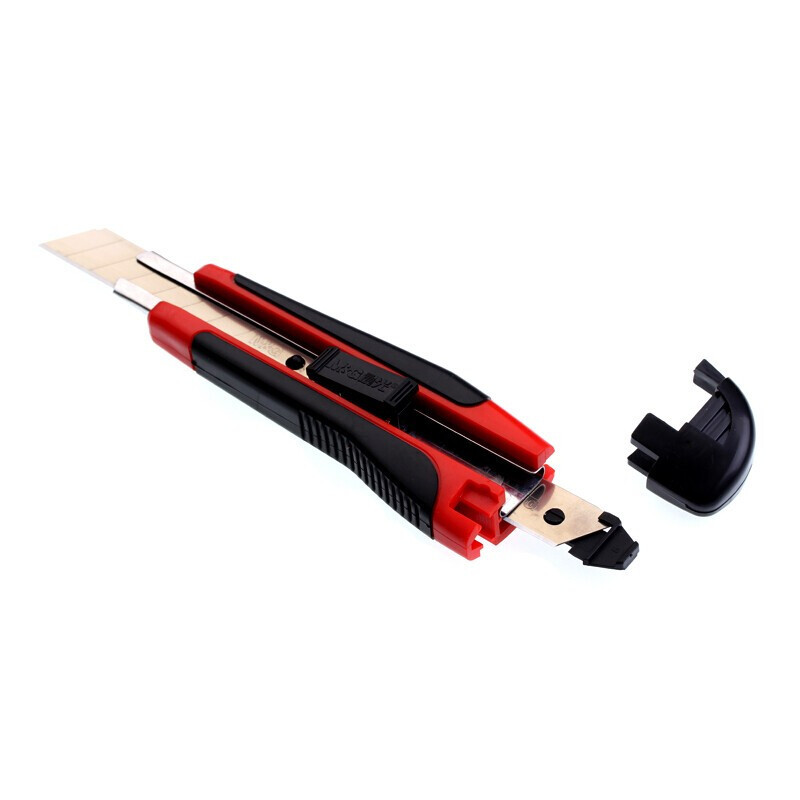cutter: (30, 227, 642, 572)
